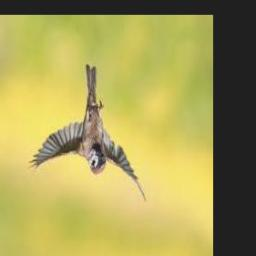Sparrow: (28, 64, 145, 203)
